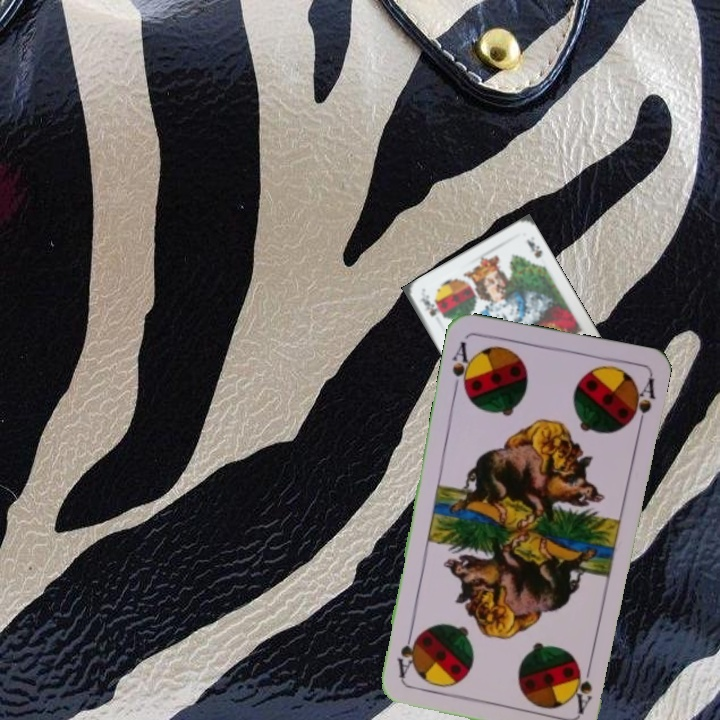SA: (448, 337, 476, 397), (572, 656, 595, 715)
SK: (416, 291, 440, 319)
